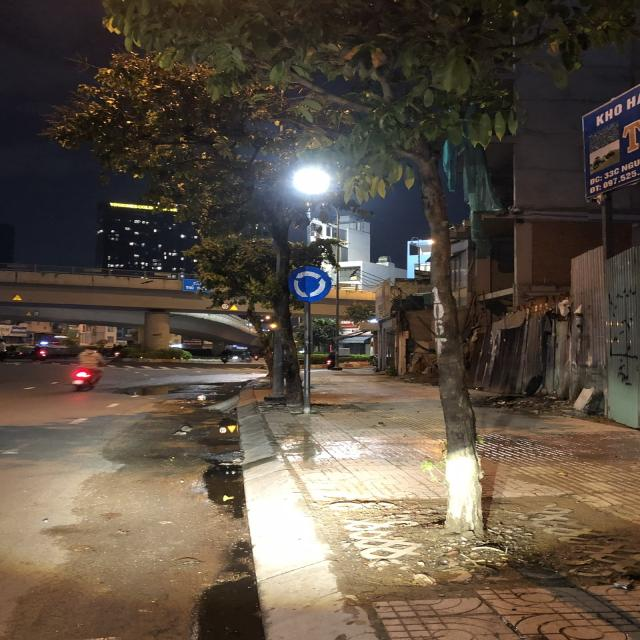Bien bao noi giao nhau chay theo vong xuyen: (286, 263, 335, 305)
